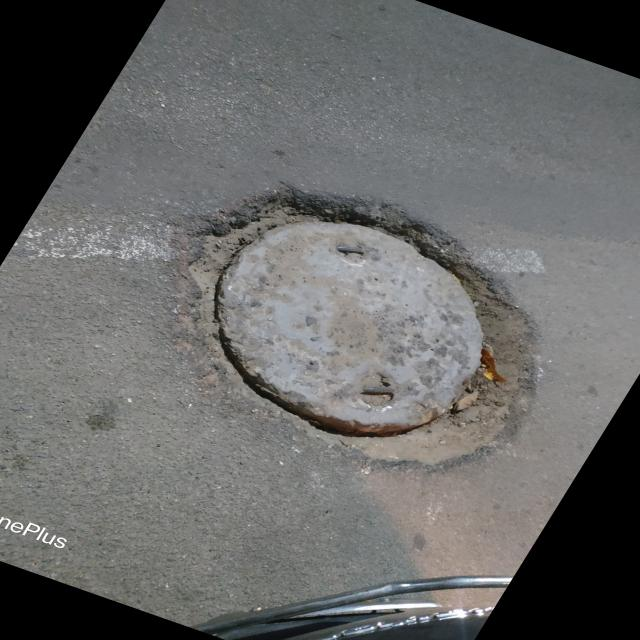manhole: (178, 180, 555, 472)
